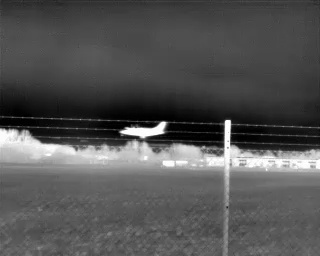AIRPLANE: (118, 119, 169, 141)
